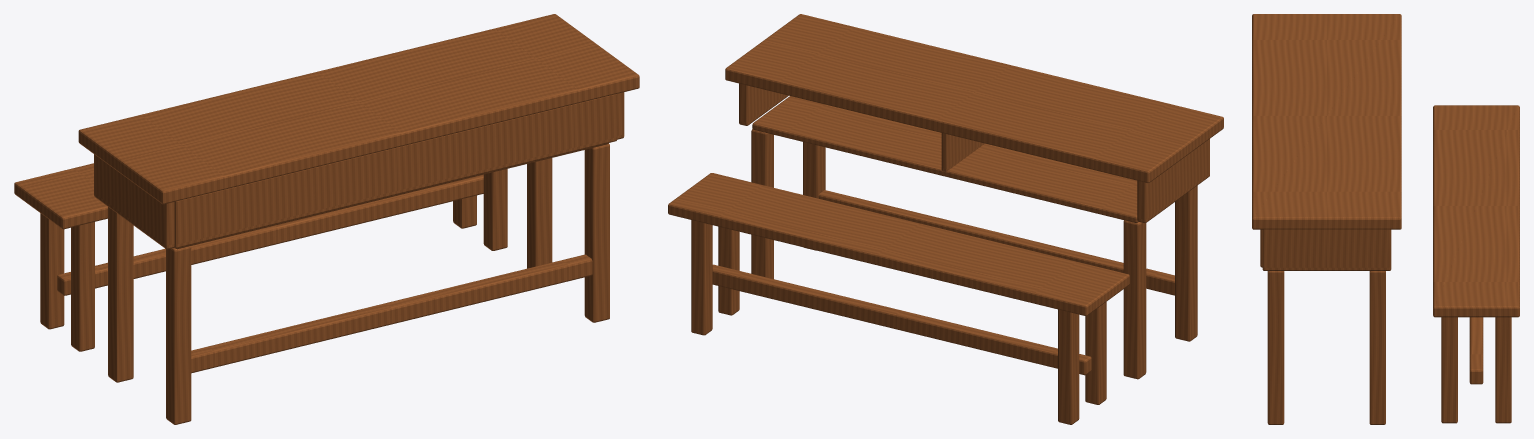
File: student_desk_bench.glb
The picture shows the model from 3 angles, left to right: view 1: azimuth 30°, elevation 25°; view 2: azimuth 150°, elevation 25°; view 3: azimuth 270°, elevation 25°; orthographic projection. The views are drawn at different scales.
Visible parts, largest first — view 1: KAClass_Desk_L_1_1, KAClass_Bench_L_1_1; view 2: KAClass_Desk_L_1_1, KAClass_Bench_L_1_1; view 3: KAClass_Desk_L_1_1, KAClass_Bench_L_1_1.
Part boxes in pixels (x1,y1,x2,y2): KAClass_Desk_L_1_1: [78, 14, 639, 424]; KAClass_Bench_L_1_1: [14, 163, 507, 351]; KAClass_Desk_L_1_1: [725, 14, 1223, 379]; KAClass_Bench_L_1_1: [668, 173, 1129, 424]; KAClass_Desk_L_1_1: [1252, 14, 1401, 424]; KAClass_Bench_L_1_1: [1433, 105, 1519, 423].
Size of the model in its own units: 1.62 by 0.7975 by 0.895.
1 material, 1 textured.
